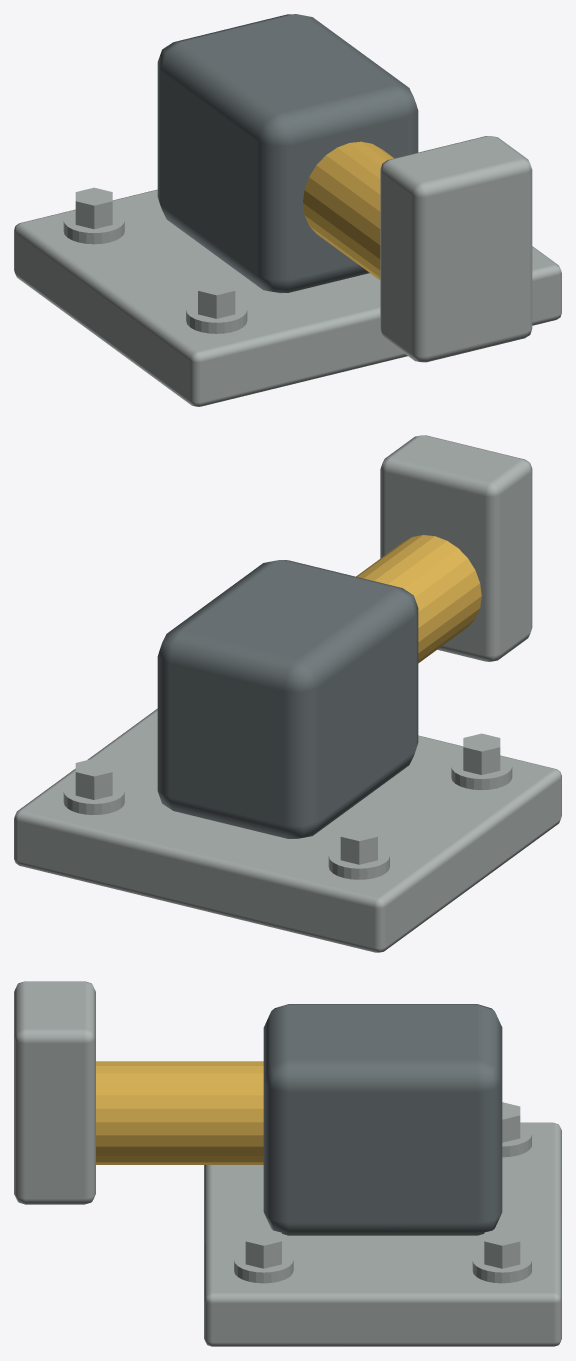
The model's file is automated-parking-and-vehicle-retrieval-automated-park-24f8d802__30366.glb.
3 views of the same model, one above another, from view 1: azimuth 30°, elevation 25°; view 2: azimuth 150°, elevation 25°; view 3: azimuth 270°, elevation 25° (orthographic). The views are drawn at different scales.
Visible parts, largest first — view 1: automated-parking-and-vehicle-retrieval-pallet-locking-latch (×3); view 2: automated-parking-and-vehicle-retrieval-pallet-locking-latch (×3); view 3: automated-parking-and-vehicle-retrieval-pallet-locking-latch (×3).
Boxes of the visible parts, x1,y1,x2,y2 form: automated-parking-and-vehicle-retrieval-pallet-locking-latch (×3): [14, 14, 561, 406]; automated-parking-and-vehicle-retrieval-pallet-locking-latch (×3): [14, 435, 561, 952]; automated-parking-and-vehicle-retrieval-pallet-locking-latch (×3): [14, 981, 561, 1346].
Size of the model in its own units: 0.28 by 0.19 by 0.3675.
